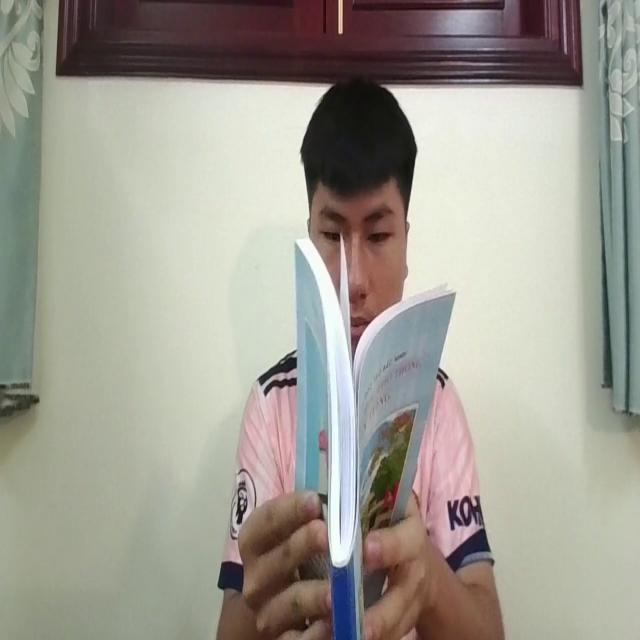book: (290, 233, 452, 640)
student: (217, 66, 505, 640)
